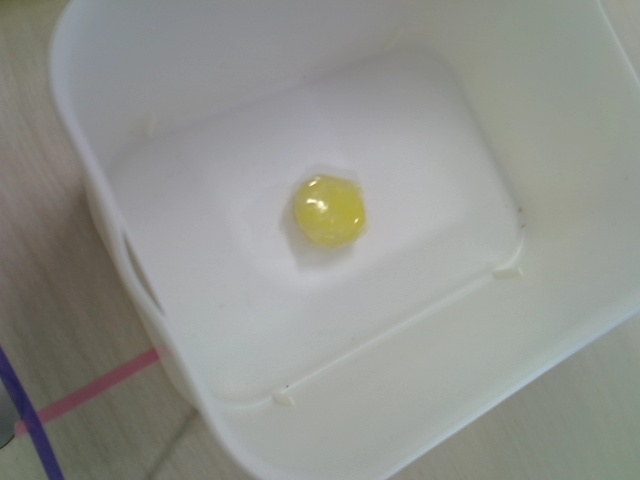씨앗: (291, 173, 369, 247)
